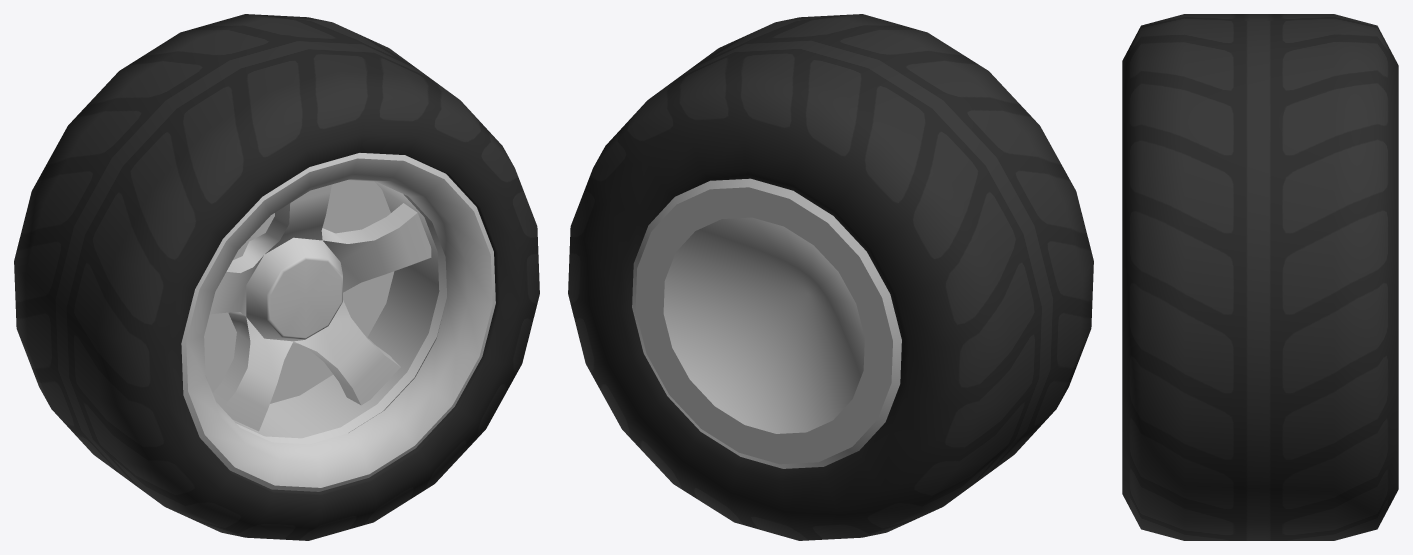
The model's file is Wheel_02.fbx.
3 views of the same model, side by side, from view 1: azimuth 30°, elevation 25°; view 2: azimuth 150°, elevation 25°; view 3: azimuth 270°, elevation 25° (orthographic). The views are drawn at different scales.
Parts seen in each view (by area): view 1: Wheel_02; view 2: Wheel_02; view 3: Wheel_02.
Boxes of the visible parts, x1,y1,x2,y2 form: Wheel_02: (14,14,539,540); Wheel_02: (568,14,1093,540); Wheel_02: (1122,14,1398,540).
Size of the model in its own units: 95 by 50 by 95.
